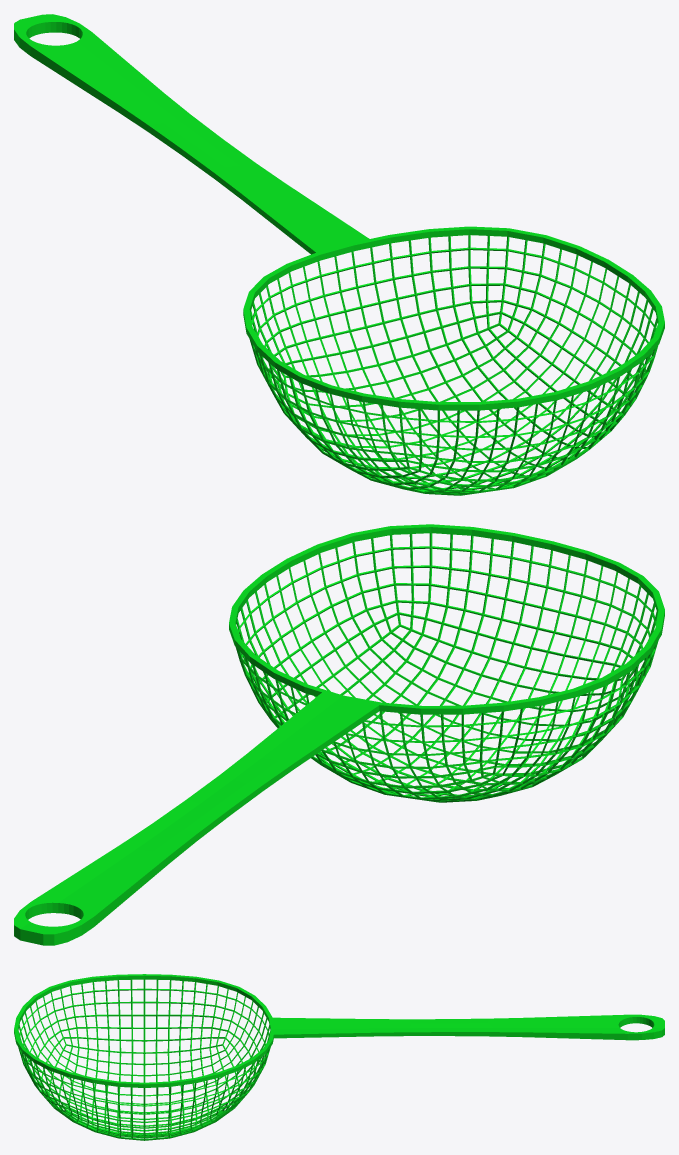
Rendered from strainergreen.glb.
3 renders of one model, top to bottom at view 1: azimuth 30°, elevation 25°; view 2: azimuth 150°, elevation 25°; view 3: azimuth 270°, elevation 25°, orthographic. The views are drawn at different scales.
Parts seen in each view (by area): view 1: strainergreen; view 2: strainergreen; view 3: strainergreen.
Part boxes in pixels (<box>): strainergreen: <box>14,14,664,495</box>; strainergreen: <box>14,524,664,945</box>; strainergreen: <box>14,974,664,1140</box>.
Size of the model in its own units: 0.0683 by 0.0289 by 0.1703.
